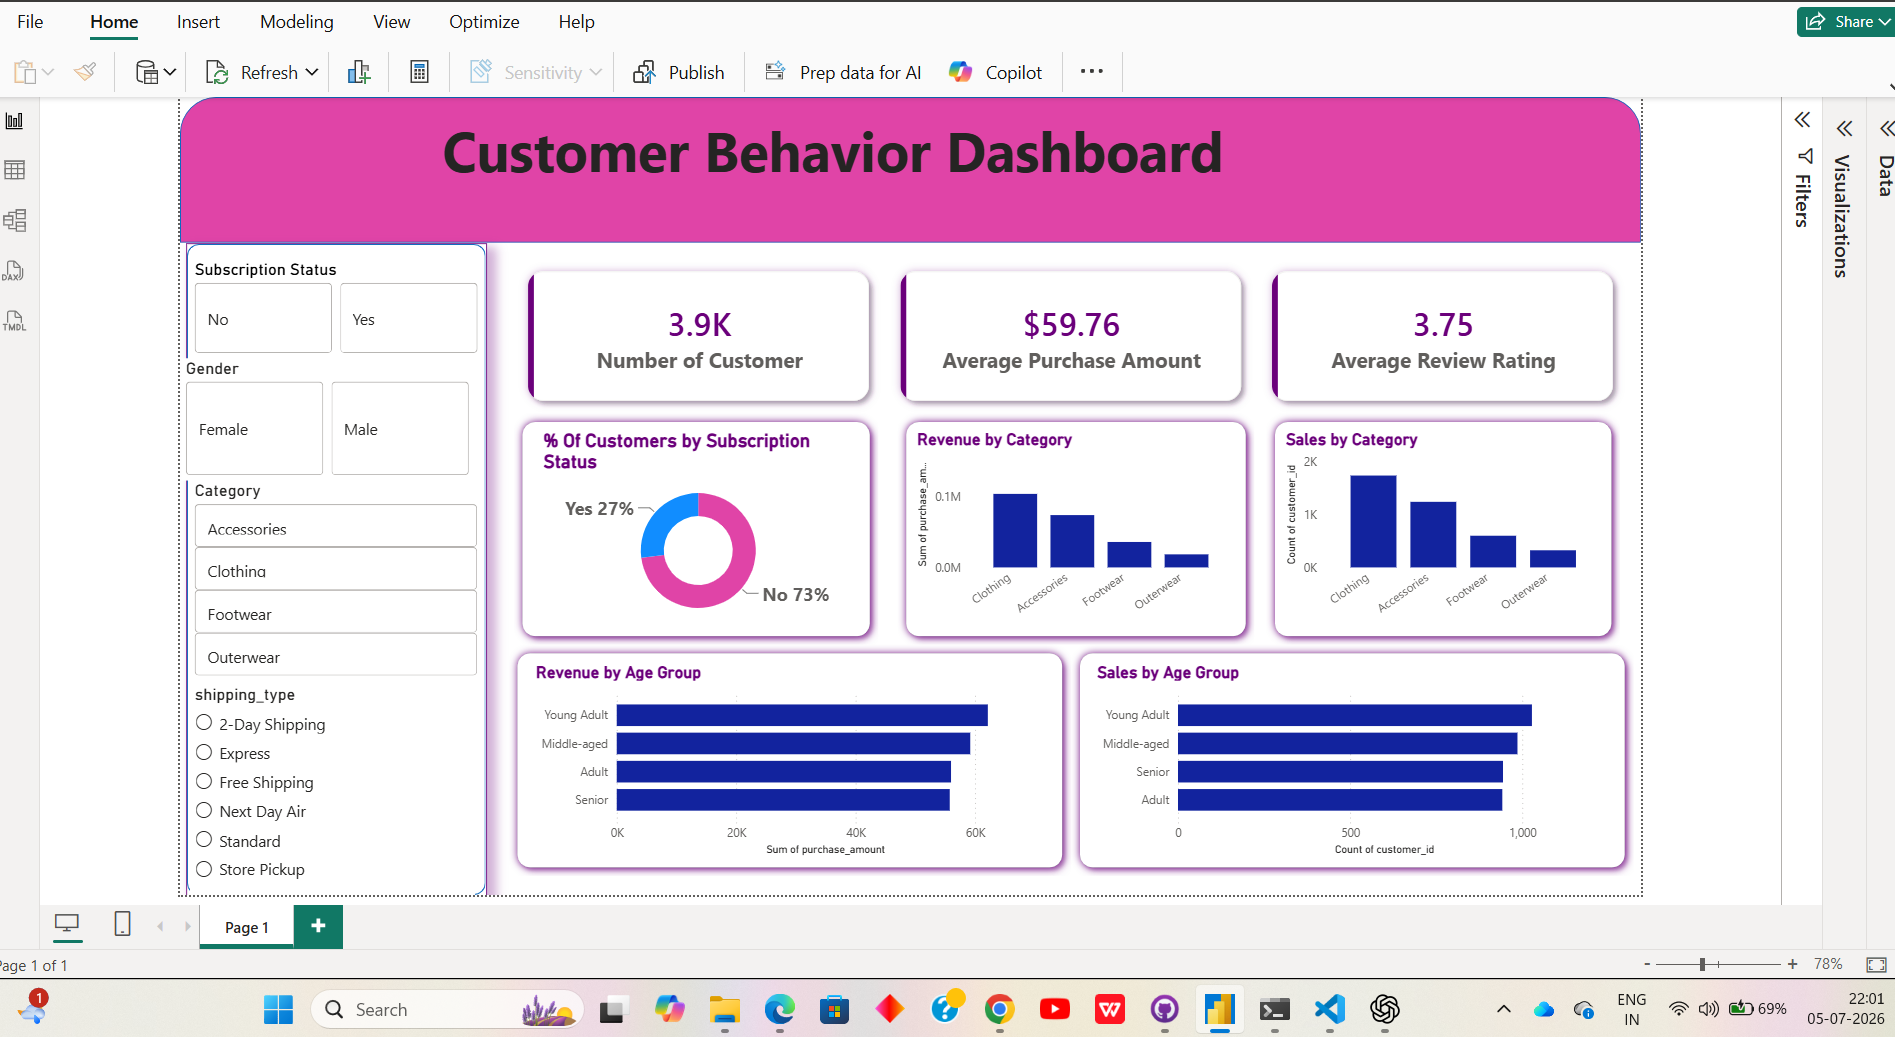

The page's visual inventory and layout, read from the dashboard file:
{"tool":"powerbi","page":{"name":"Page 1","canvas":[1500,820],"ordinal":0},"visuals":[{"type":"cardVisual","fields":{"Data":["public customer.Number of Customer","public customer.Average Purchase Amount","public customer.Average Review Rating"]},"box":[328,149.6,1172.3,191.4],"z":0},{"type":"shape","box":[0,0,1500.3,149.6],"z":1},{"type":"textbox","box":[135.8,11,1069,109.8],"z":2},{"type":"shape","box":[342.5,324.8,374.7,238],"z":3},{"type":"donutChart","title":"% Of Customers by Subscription Status","fields":{"Category":["public customer.subscription_status"],"Y":["CountNonNull(public customer.customer_id)"]},"box":[368.2,340.9,328,205.8],"z":4},{"type":"shape","box":[736.5,324.8,366.6,238],"z":5},{"type":"shape","box":[1116,324.8,363.4,238],"z":6},{"type":"clusteredColumnChart","title":"Revenue by Category","fields":{"Y":["Sum(public customer.purchase_amount)"],"Category":["public customer.category"]},"box":[752.6,340.9,334.5,205.8],"z":7},{"type":"clusteredColumnChart","title":"Sales by Category","fields":{"Y":["CountNonNull(public customer.customer_id)"],"Category":["public customer.category"]},"box":[1130.5,340.9,334.5,205.8],"z":8},{"type":"shape","box":[6.4,149.6,308.7,670.6],"z":9},{"type":"advancedSlicerVisual","title":"Subscription Status","fields":{"Values":["public customer.subscription_status"]},"box":[9.6,167.2,300.7,101.3],"z":10},{"type":"advancedSlicerVisual","title":"Gender","fields":{"Values":["public customer.gender"]},"box":[1.6,268.5,300.7,125.4],"z":11},{"type":"advancedSlicerVisual","title":"Category","fields":{"Values":["public customer.category"]},"box":[9.6,394,300.7,209],"z":12},{"type":"listSlicer","fields":{"Values":["public customer.shipping_type"]},"box":[9.6,603,292.7,217.1],"z":13},{"type":"shape","box":[337.7,562.8,577.3,238],"z":14},{"type":"clusteredBarChart","title":"Revenue by Age Group","fields":{"Category":["public customer.age_group"],"Y":["Sum(public customer.purchase_amount)"]},"box":[360.2,580.5,532.3,204.2],"z":15},{"type":"shape","box":[915,562.8,577.3,238],"z":16},{"type":"clusteredBarChart","title":"Sales by Age Group","fields":{"Category":["public customer.age_group"],"Y":["CountNonNull(public customer.customer_id)"]},"box":[937.5,580.5,532.3,204.2],"z":17}]}

Visuals, with their boxes on the page's 1500x820 design canvas (x1, y1, x2, y2). These are canvas units, not pixel positions in the 1895x1037 screenshot, which may show the page scaled, cropped or inside an application window:
cardVisual - public customer.Number of Customer x public customer.Average Purchase Amount: [328,150,1500,341]
shape: [0,0,1500,150]
textbox: [136,11,1205,121]
shape: [342,325,717,563]
"% Of Customers by Subscription Status" donutChart: [368,341,696,547]
shape: [736,325,1103,563]
shape: [1116,325,1479,563]
"Revenue by Category" clusteredColumnChart: [753,341,1087,547]
"Sales by Category" clusteredColumnChart: [1130,341,1465,547]
shape: [6,150,315,820]
"Subscription Status" advancedSlicerVisual: [10,167,310,268]
"Gender" advancedSlicerVisual: [2,268,302,394]
"Category" advancedSlicerVisual: [10,394,310,603]
listSlicer - public customer.shipping_type: [10,603,302,820]
shape: [338,563,915,801]
"Revenue by Age Group" clusteredBarChart: [360,580,892,785]
shape: [915,563,1492,801]
"Sales by Age Group" clusteredBarChart: [938,580,1470,785]
